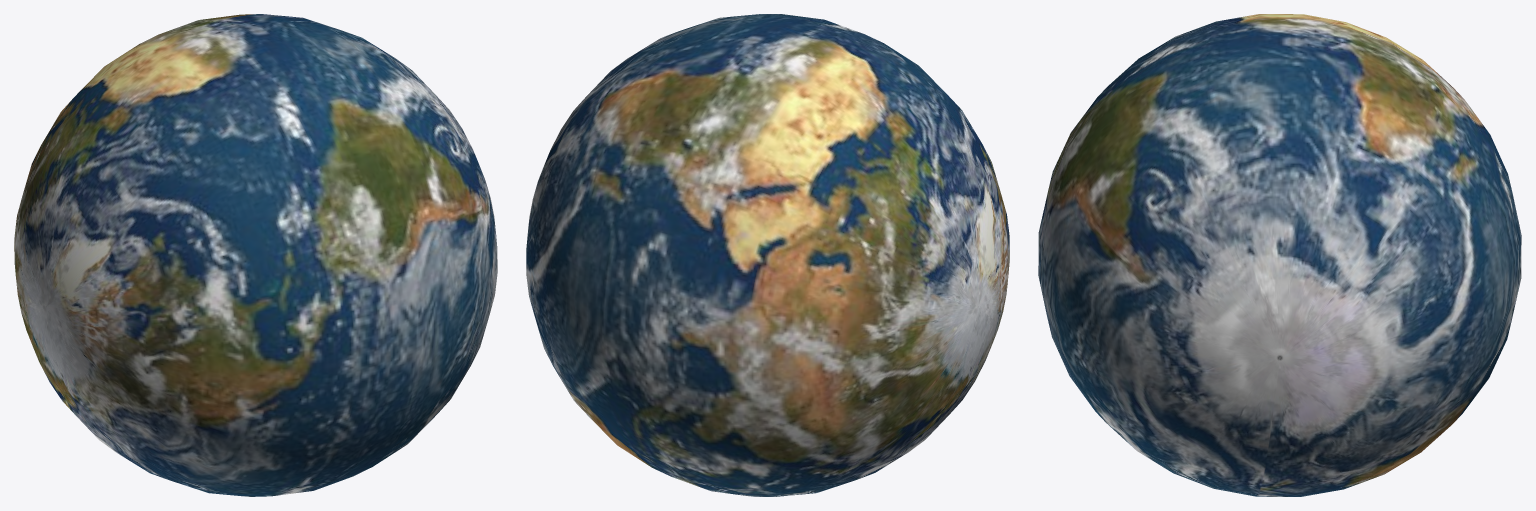
File: earth.obj
3 views of the same model, side by side, from view 1: azimuth 30°, elevation 25°; view 2: azimuth 150°, elevation 25°; view 3: azimuth 270°, elevation 25° (orthographic).
Parts seen in each view (by area): view 1: Sphere001; view 2: Sphere001; view 3: Sphere001.
Boxes of the visible parts, left/top/right/bottom form: Sphere001: left=14, top=14, right=497, bottom=496; Sphere001: left=526, top=14, right=1009, bottom=496; Sphere001: left=1038, top=14, right=1521, bottom=496.
Bounding box in the file's own units: 151 × 150 × 150.
Materials: 1 (1 with a texture image).
